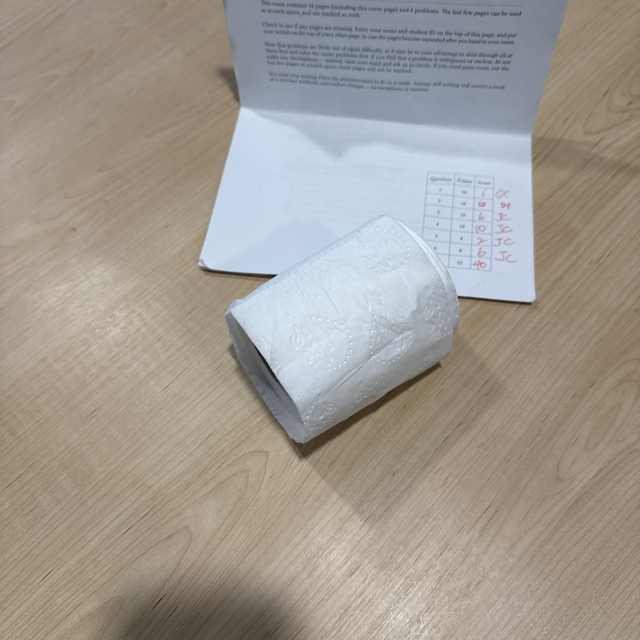Paper: (185, 7, 563, 300)
